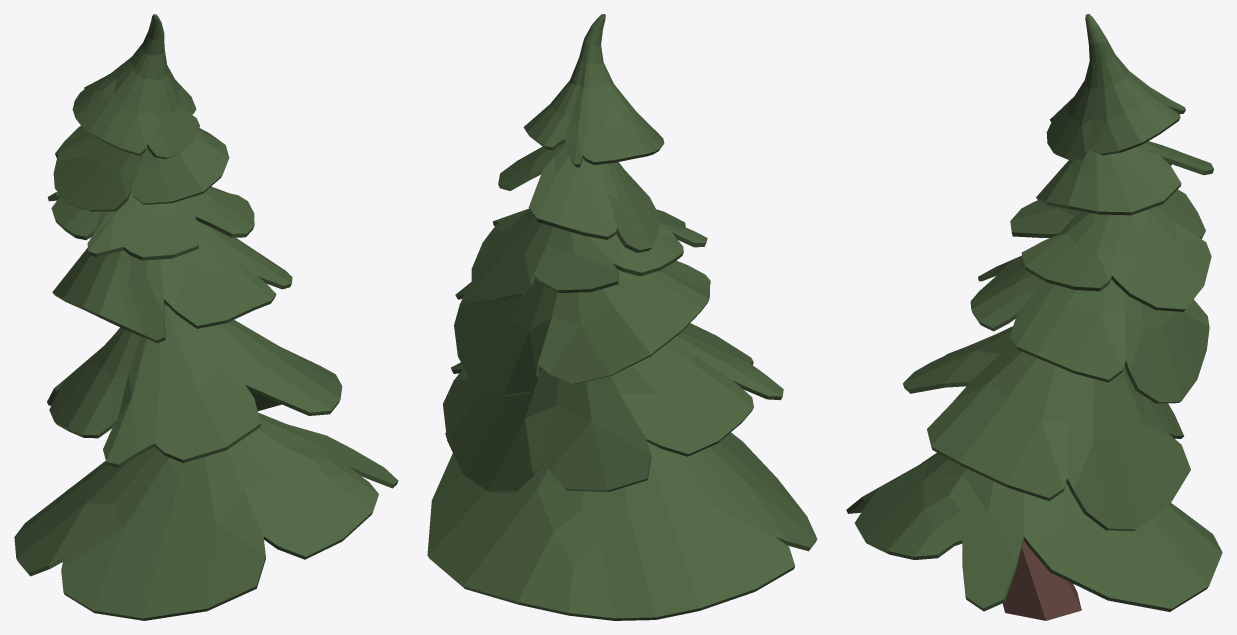
Rendered from PineTree_3.gltf.
The picture shows the model from 3 angles, left to right: view 1: azimuth 30°, elevation 25°; view 2: azimuth 150°, elevation 25°; view 3: azimuth 270°, elevation 25°; orthographic projection. The views are drawn at different scales.
Visible parts, largest first — view 1: PineTree_3; view 2: PineTree_3; view 3: PineTree_3.
Part boxes in pixels (box(x1,y1,x2,y2)): PineTree_3: box(14, 14, 398, 620); PineTree_3: box(427, 14, 817, 620); PineTree_3: box(846, 14, 1222, 620).
Size of the model in its own units: 2.16 by 3.3 by 1.95.
